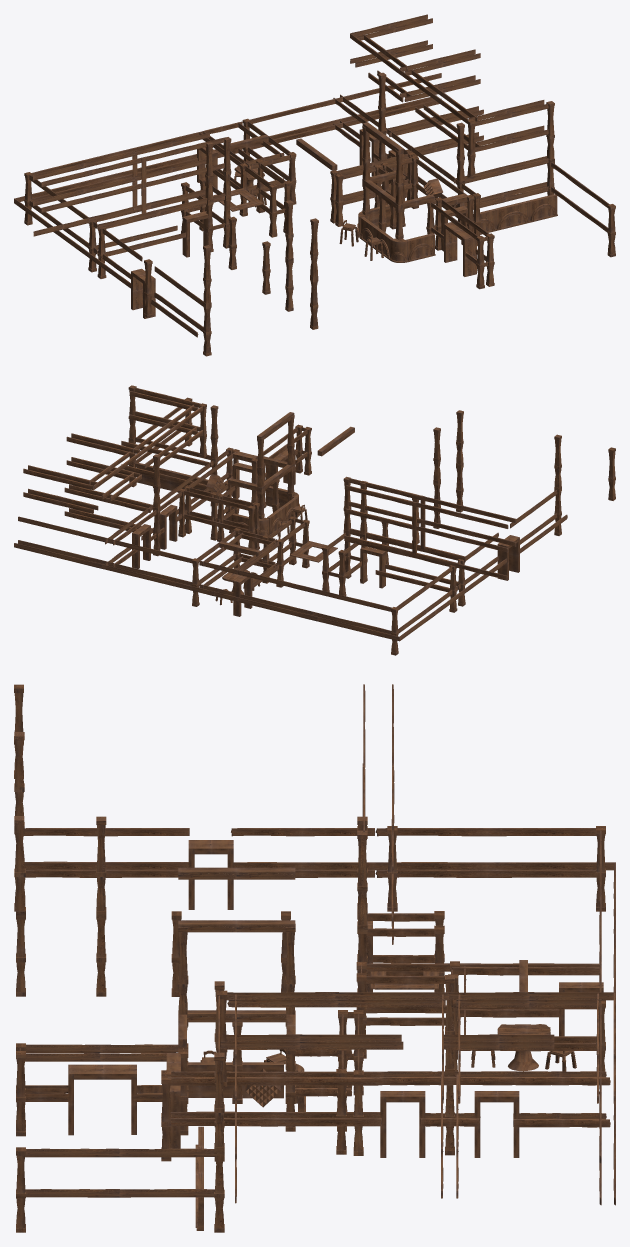
File: tavern_temn_vert.gltf
3 renders of one model, top to bottom at view 1: azimuth 30°, elevation 25°; view 2: azimuth 150°, elevation 25°; view 3: azimuth 270°, elevation 25°, orthographic. The views are drawn at different scales.
Parts seen in each view (by area): view 1: Box123_Material #170_0.003; view 2: Box123_Material #170_0.003; view 3: Box123_Material #170_0.003.
Boxes of the visible parts, x1,y1,x2,y2 form: Box123_Material #170_0.003: (14, 14, 615, 356); Box123_Material #170_0.003: (14, 385, 615, 655); Box123_Material #170_0.003: (14, 684, 615, 1232).
Bounding box in the file's own units: 324 × 72.21 × 219.
